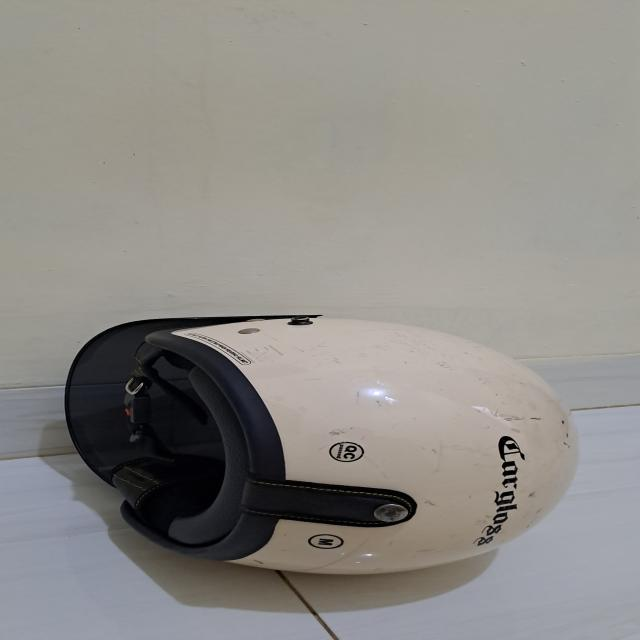Helm: (64, 308, 586, 576)
